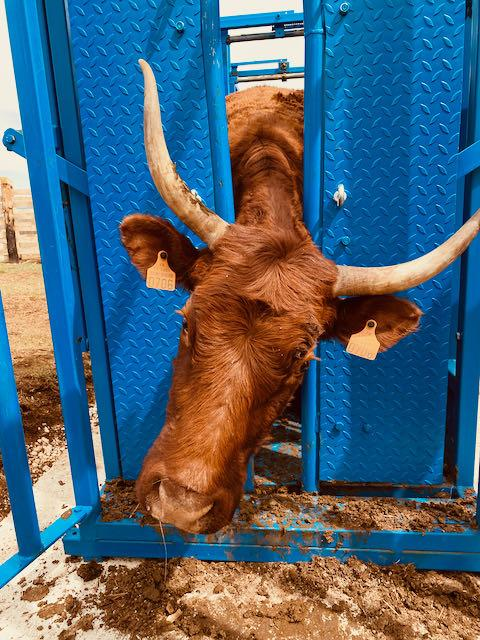muzzles: (139, 464, 228, 538)
